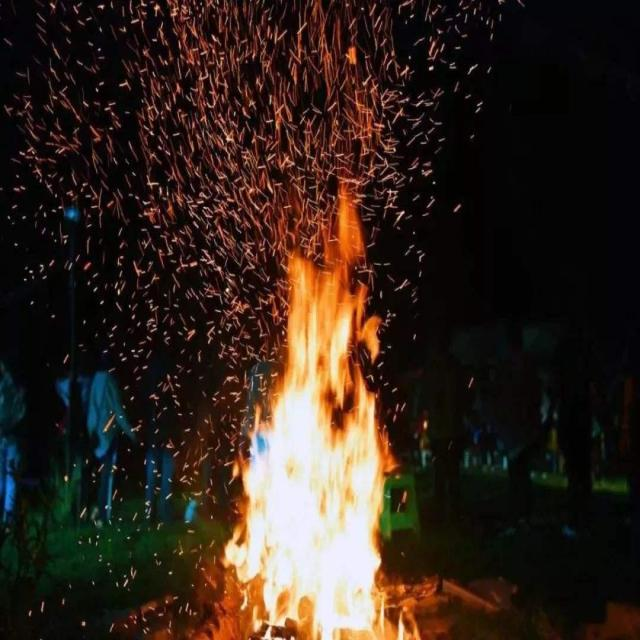fire: (205, 162, 412, 632)
